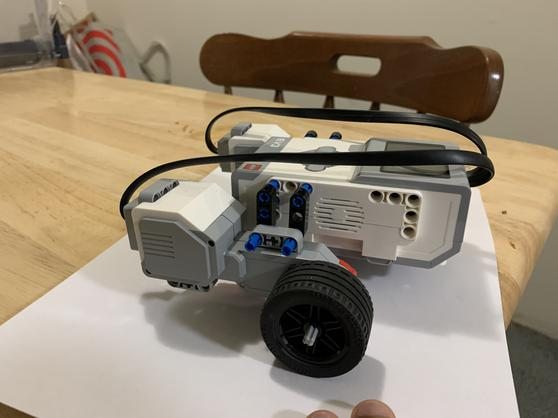robot: (114, 100, 502, 383)
